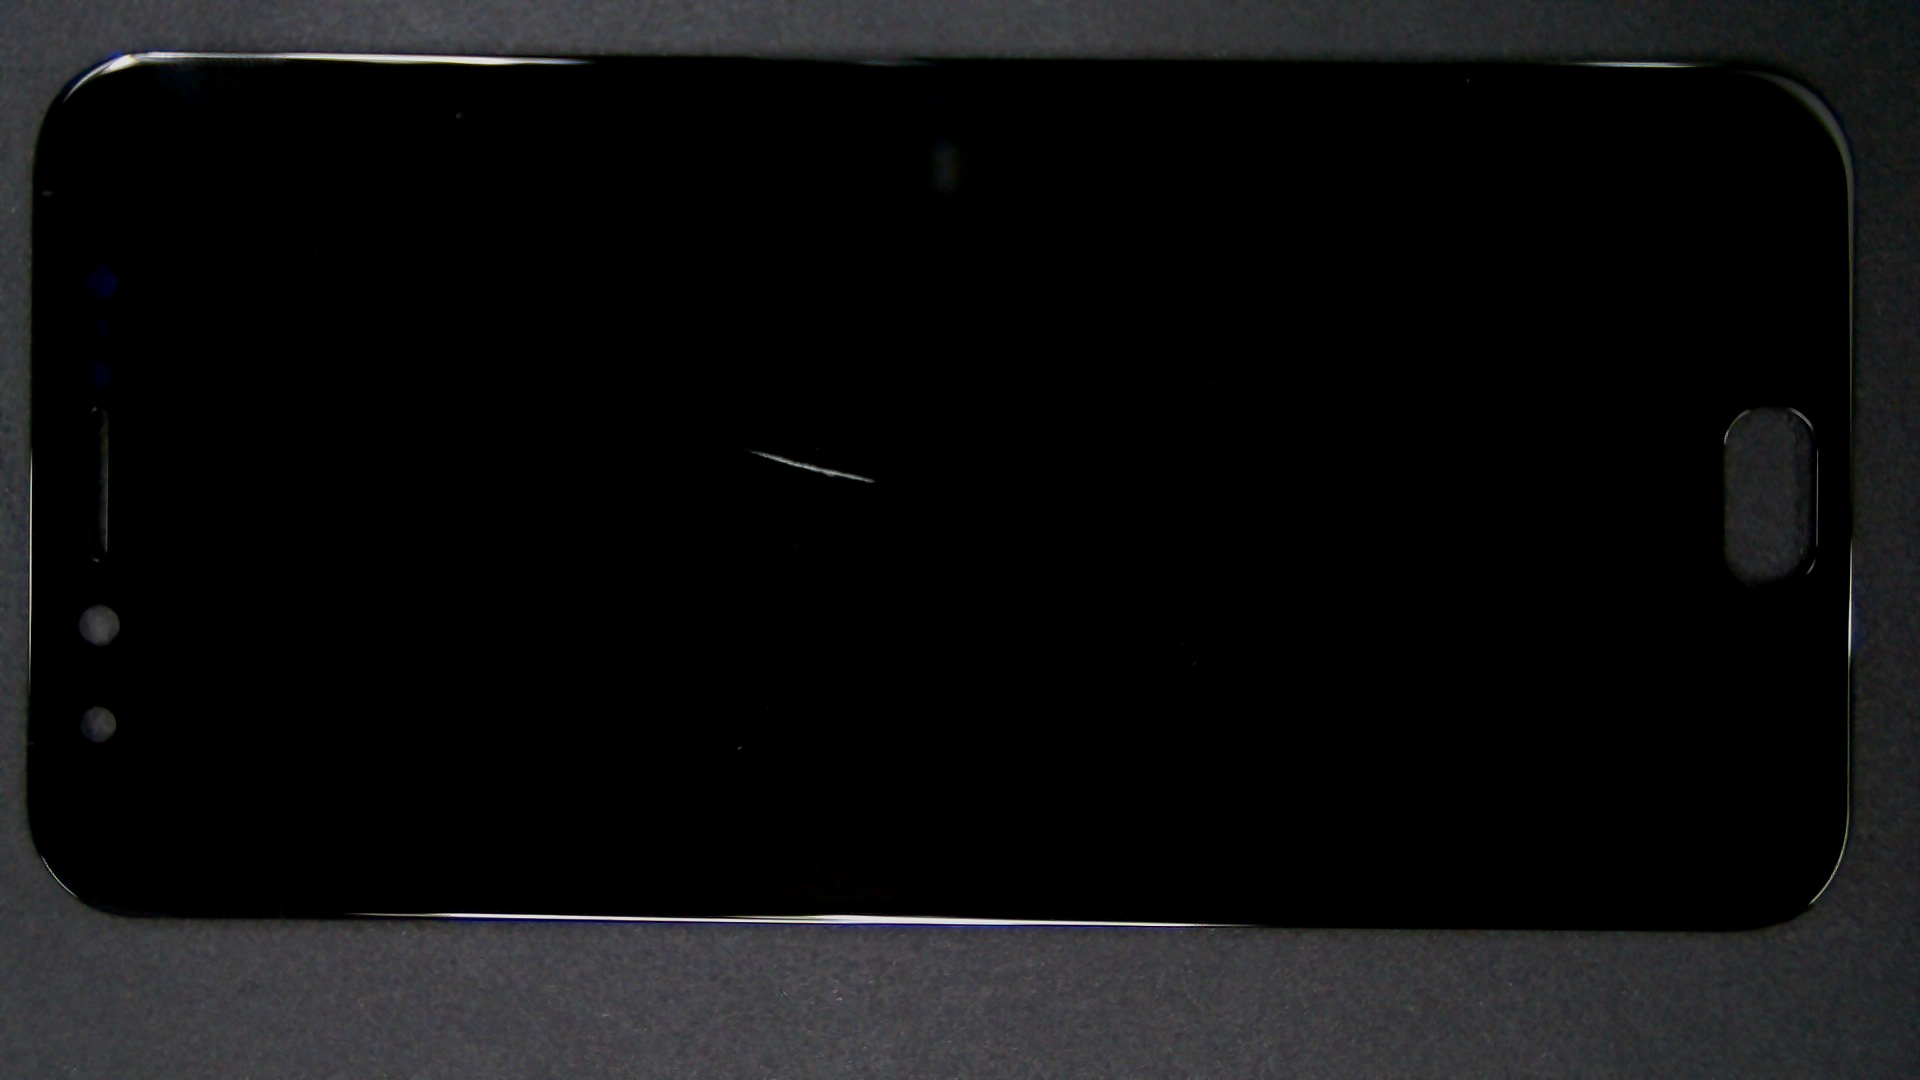oil: (372, 223, 1114, 674)
